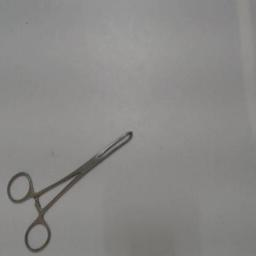Allis Tissue Forceps: (4, 126, 140, 254)
